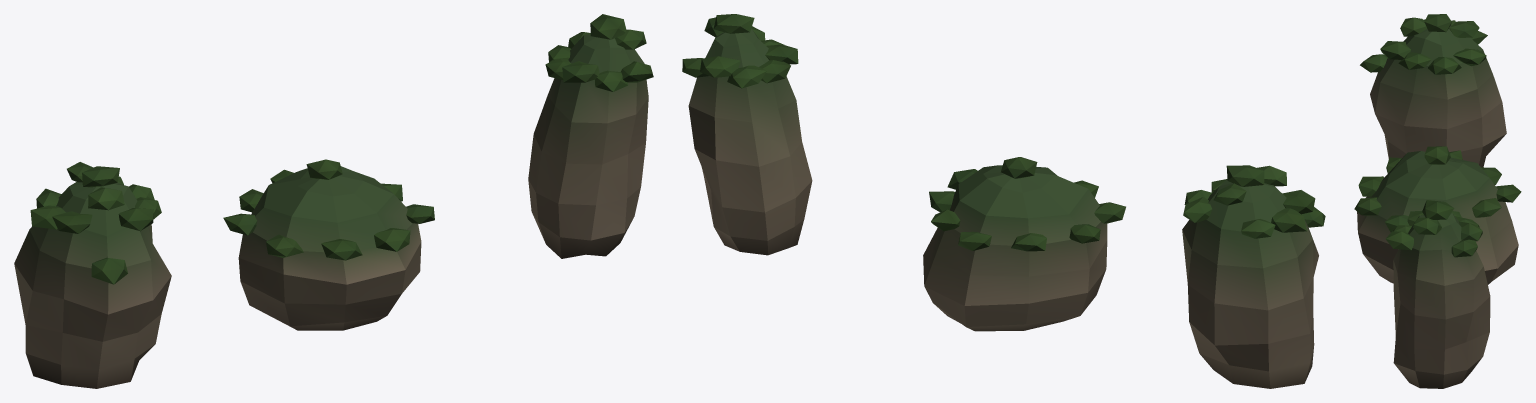
File: nui_da_voi.lite.glb
3 renders of one model, left to right at view 1: azimuth 30°, elevation 25°; view 2: azimuth 150°, elevation 25°; view 3: azimuth 270°, elevation 25°, orthographic. The views are drawn at different scales.
Visible parts, largest first — view 1: da_voi_0, da_voi_1, da_voi_2, da_voi_0_cay, da_voi_1_cay, da_voi_2_cay; view 2: da_voi_1, da_voi_0, da_voi_2, da_voi_0_cay, da_voi_1_cay, da_voi_2_cay; view 3: da_voi_2, da_voi_0, da_voi_1, da_voi_0_cay, da_voi_1_cay, da_voi_2_cay.
Part boxes in pixels (<box>): da_voi_0: <box>14,182,171,388</box>; da_voi_1: <box>238,166,421,330</box>; da_voi_2: <box>528,34,648,258</box>; da_voi_0_cay: <box>30,162,161,284</box>; da_voi_1_cay: <box>223,159,434,260</box>; da_voi_2_cay: <box>545,14,653,91</box>; da_voi_1: <box>923,165,1107,331</box>; da_voi_0: <box>1182,179,1318,388</box>; da_voi_2: <box>688,28,812,255</box>; da_voi_0_cay: <box>1183,165,1325,238</box>; da_voi_1_cay: <box>929,157,1125,251</box>; da_voi_2_cay: <box>682,14,798,88</box>; da_voi_2: <box>1393,213,1490,388</box>; da_voi_0: <box>1370,25,1506,167</box>; da_voi_1: <box>1357,151,1518,284</box>; da_voi_0_cay: <box>1360,14,1487,74</box>; da_voi_1_cay: <box>1354,146,1521,232</box>; da_voi_2_cay: <box>1385,200,1482,257</box>.
Bounding box in the file's own units: 3.47 × 1.23 × 0.9728.
